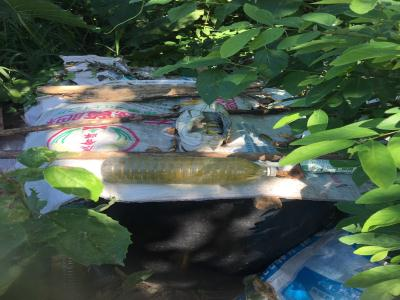bottle: (99, 153, 279, 189)
plastic_bag: (28, 96, 286, 154)
